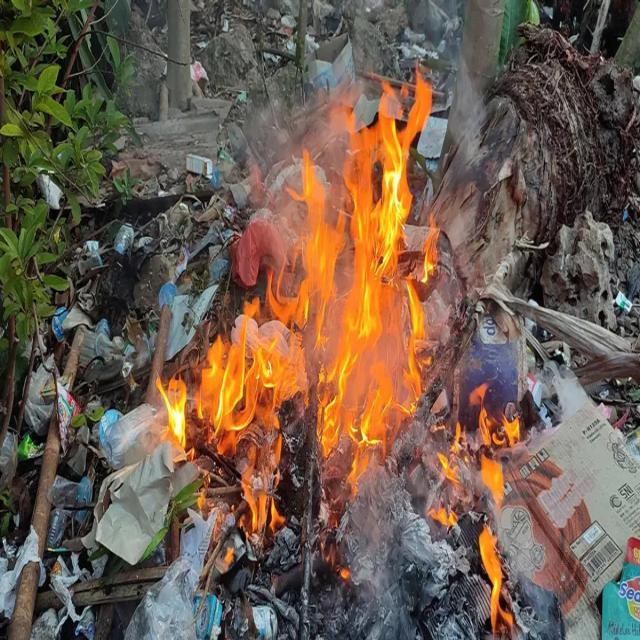fire: (320, 58, 440, 494), (199, 314, 285, 534), (283, 149, 345, 347), (428, 421, 468, 530), (479, 404, 520, 506), (479, 522, 513, 635), (264, 265, 310, 331), (155, 367, 188, 448)
